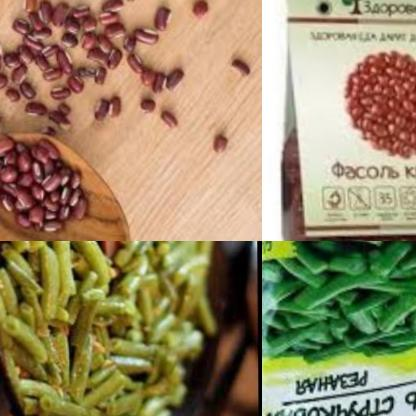fasol: (5, 241, 225, 416), (0, 0, 183, 150), (262, 241, 416, 361), (270, 117, 416, 241), (0, 131, 92, 241), (345, 42, 416, 157), (204, 123, 235, 159), (225, 55, 252, 81), (189, 0, 212, 21)
